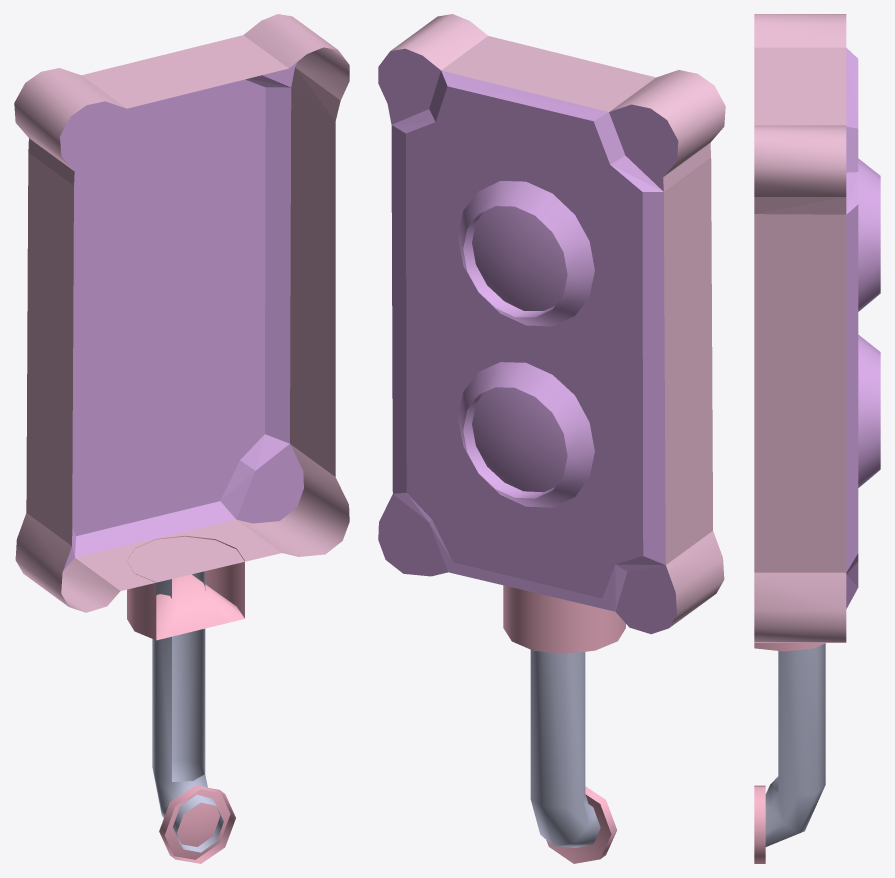
Rendered from button1.fbx.
3 views of the same model, side by side, from view 1: azimuth 30°, elevation 25°; view 2: azimuth 150°, elevation 25°; view 3: azimuth 270°, elevation 25° (orthographic). The views are drawn at different scales.
Parts seen in each view (by area): view 1: bt; view 2: bt; view 3: bt.
Boxes of the visible parts, x1=… form: bt: x1=14, y1=14, x2=349, y2=863; bt: x1=378, y1=14, x2=725, y2=863; bt: x1=754, y1=14, x2=880, y2=863.
Size of the model in its own units: 25.77 by 66.88 by 9.65.
